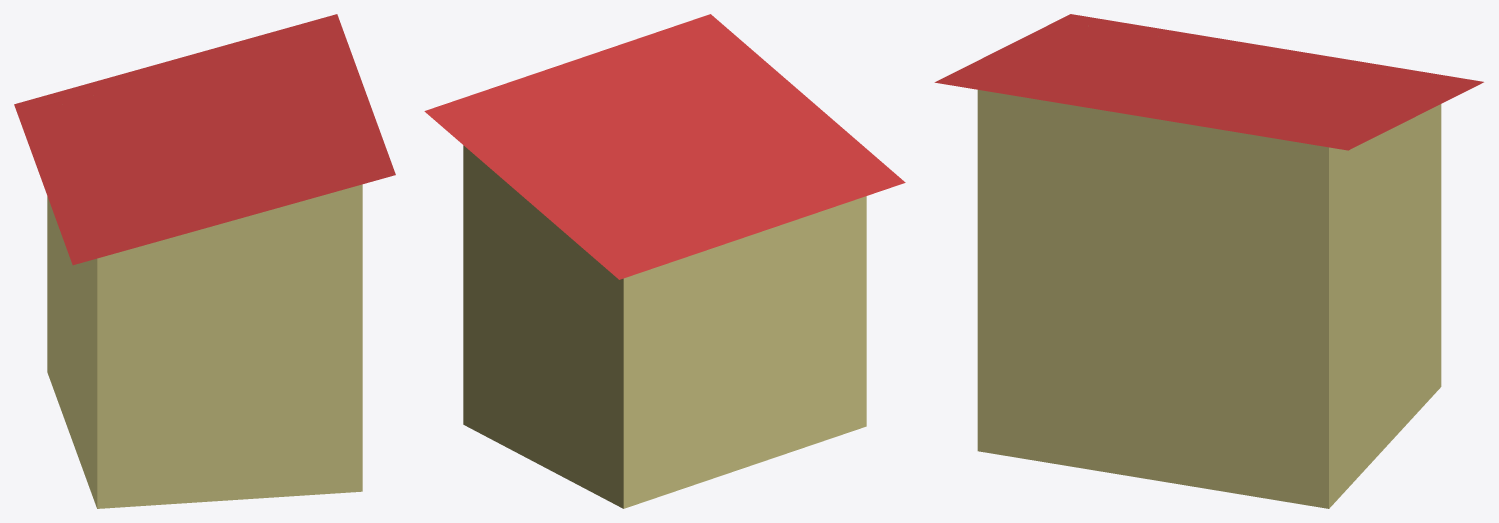
3 renders of one model, left to right at view 1: azimuth 30°, elevation 25°; view 2: azimuth 150°, elevation 25°; view 3: azimuth 270°, elevation 25°, orthographic. The views are drawn at different scales.
Bounding box in the file's own units: 7.6 × 8.17 × 6.17.
